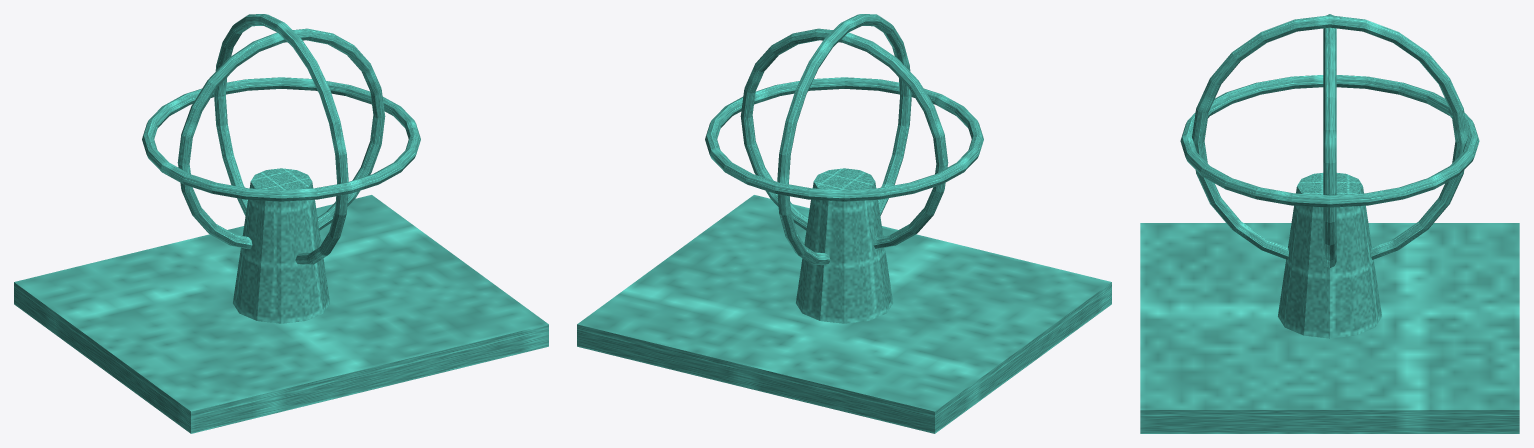
File: jade_observatory_01.glb
3 views of the same model, side by side, from view 1: azimuth 30°, elevation 25°; view 2: azimuth 150°, elevation 25°; view 3: azimuth 270°, elevation 25° (orthographic). The views are drawn at different scales.
Parts seen in each view (by area): view 1: Foundation, Pedestal, CelestialRing.002, CelestialRing, CelestialRing.001; view 2: Foundation, Pedestal, CelestialRing.002, CelestialRing, CelestialRing.001; view 3: Foundation, Pedestal, CelestialRing.001, CelestialRing.002, CelestialRing.
Part boxes in pixels (box(x1,y1,x2,y2)): Foundation: box(14, 195, 548, 433); Pedestal: box(233, 168, 329, 323); CelestialRing.002: box(142, 77, 420, 201); CelestialRing: box(177, 28, 385, 248); CelestialRing.001: box(214, 14, 348, 264); Foundation: box(577, 195, 1111, 433); Pedestal: box(796, 168, 892, 323); CelestialRing.002: box(705, 77, 983, 201); CelestialRing: box(740, 28, 948, 248); CelestialRing.001: box(777, 14, 911, 264); Foundation: box(1140, 223, 1519, 433); Pedestal: box(1278, 173, 1381, 338); CelestialRing.001: box(1192, 15, 1467, 259); CelestialRing.002: box(1180, 75, 1479, 207); CelestialRing: box(1323, 14, 1336, 267).
Bounding box in the file's own units: 4.03 × 3.26 × 3.45.
1 material, 1 textured.
